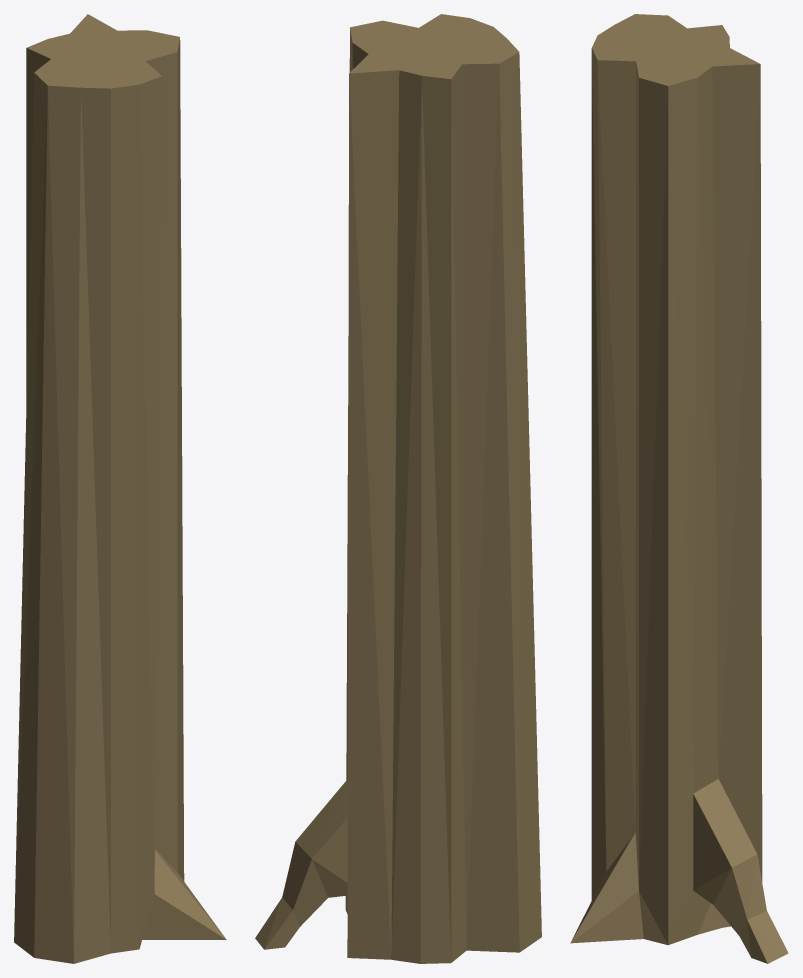
Rendered from tree.dae.
3 renders of one model, left to right at view 1: azimuth 30°, elevation 25°; view 2: azimuth 150°, elevation 25°; view 3: azimuth 270°, elevation 25°, orthographic. The views are drawn at different scales.
Parts seen in each view (by area): view 1: Cylinder; view 2: Cylinder; view 3: Cylinder.
Part boxes in pixels (x1,y1,x2,y2): Cylinder: [14, 14, 226, 963]; Cylinder: [255, 14, 541, 963]; Cylinder: [570, 14, 788, 963].
Bounding box in the file's own units: 1.41 × 1.29 × 5.58.
